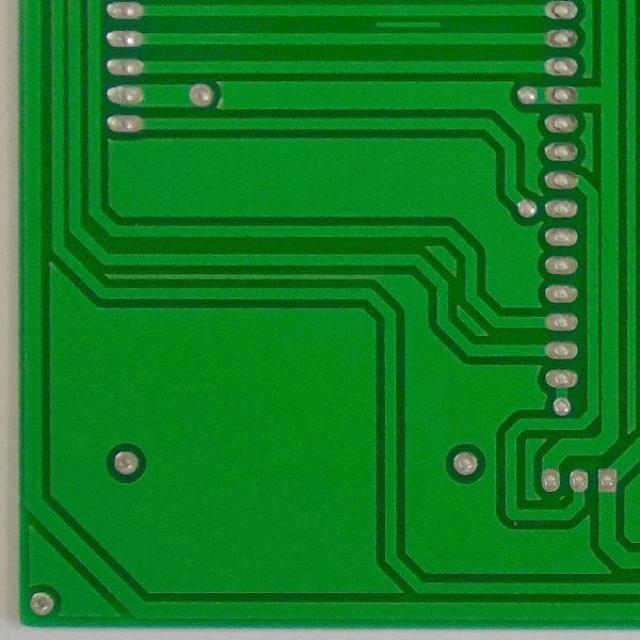Spurious_Cooper: (371, 18, 447, 30)
